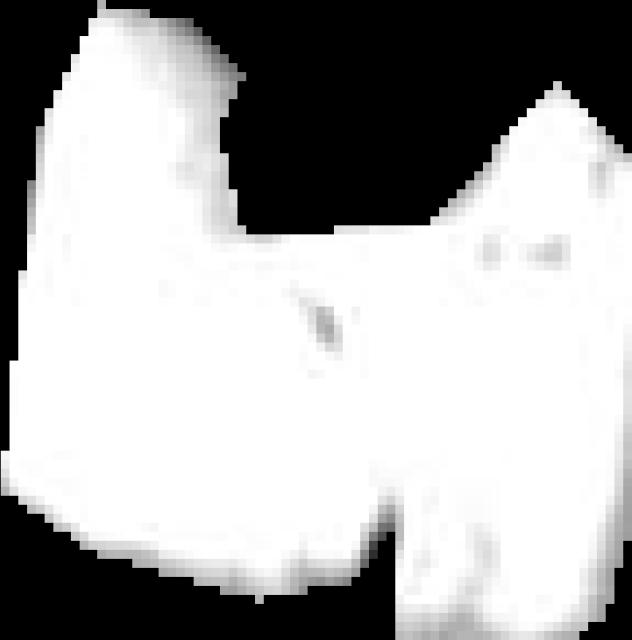tumor_good_chance: (1, 0, 632, 640)
